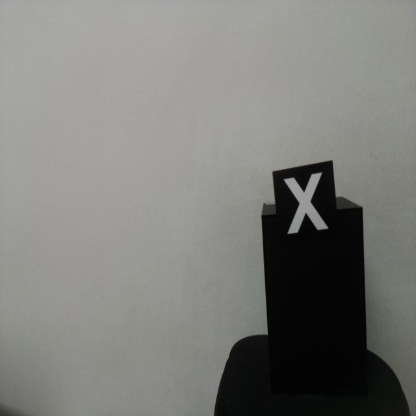id_13: (274, 169, 337, 249)
